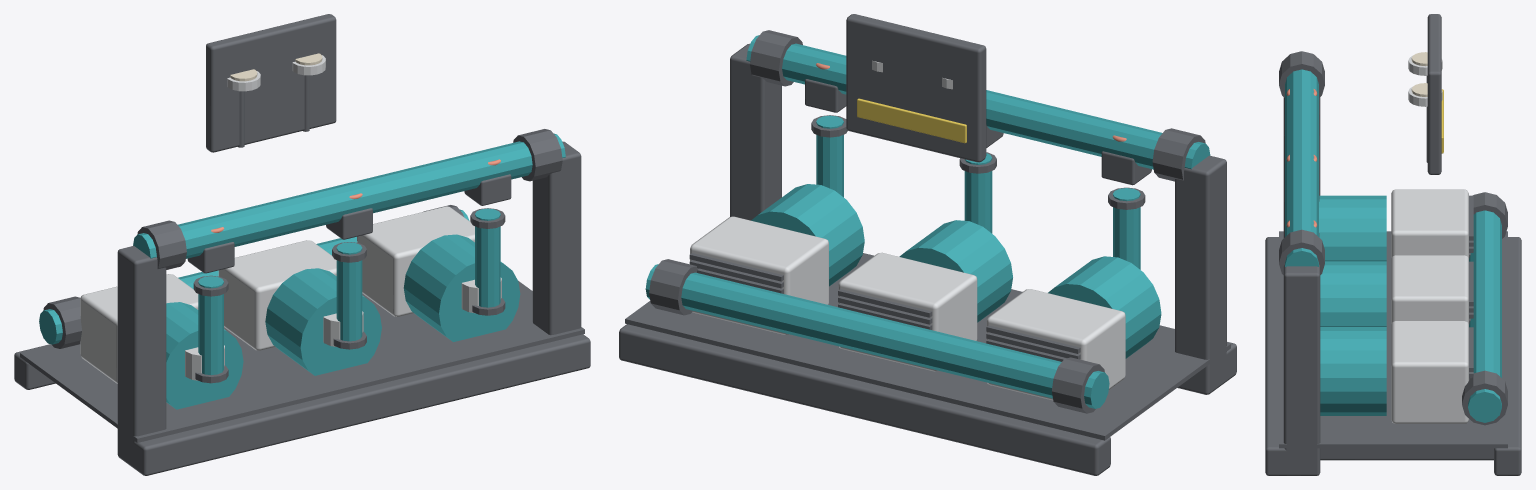
File: public-aquarium-and-marine-centre-life-support-pump-sk-364d708f__34174.glb
3 views of the same model, side by side, from view 1: azimuth 30°, elevation 25°; view 2: azimuth 150°, elevation 25°; view 3: azimuth 270°, elevation 25° (orthographic). The views are drawn at different scales.
Parts seen in each view (by area): view 1: life-support-pump-skid; view 2: life-support-pump-skid; view 3: life-support-pump-skid.
Part boxes in pixels (x1,y1,x2,y2): life-support-pump-skid: [14, 14, 590, 475]; life-support-pump-skid: [619, 14, 1236, 475]; life-support-pump-skid: [1265, 14, 1521, 475].
Size of the model in its own units: 2.2 by 1.56 by 1.12.
